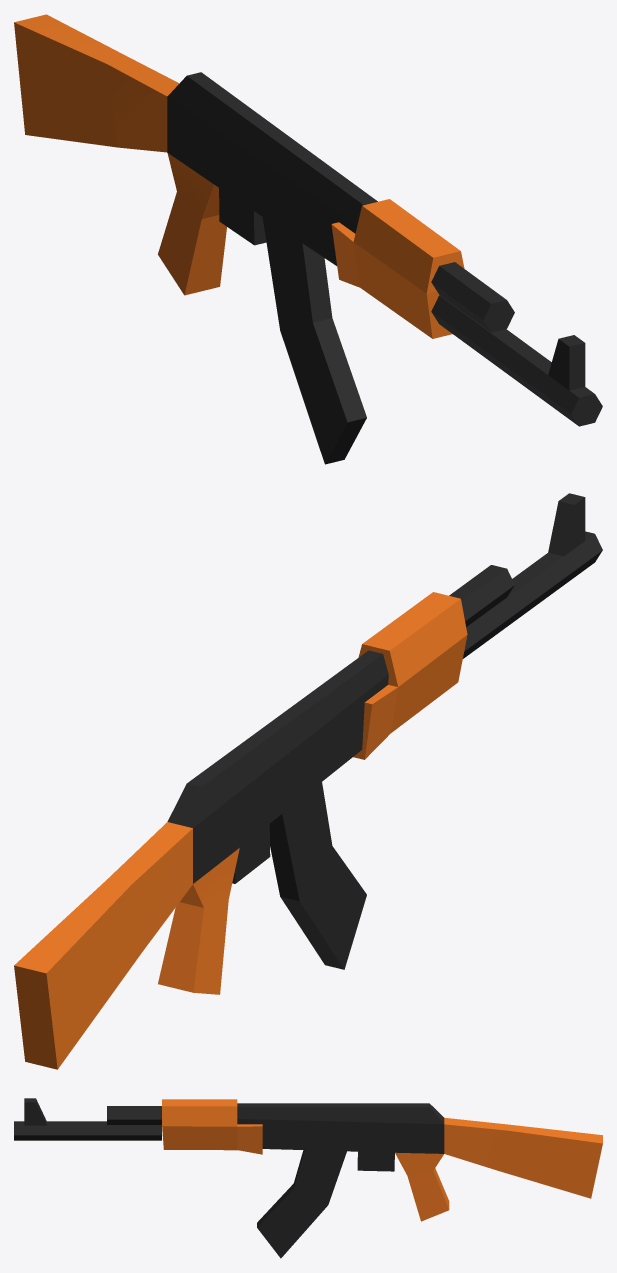
Rendered from weapons_ak-47.fbx.
3 views of the same model, one above another, from view 1: azimuth 30°, elevation 25°; view 2: azimuth 150°, elevation 25°; view 3: azimuth 270°, elevation 25° (orthographic). The views are drawn at different scales.
Parts seen in each view (by area): view 1: weapons_ak_47; view 2: weapons_ak_47; view 3: weapons_ak_47.
Part boxes in pixels (<box>): weapons_ak_47: <box>14,14,602,464</box>; weapons_ak_47: <box>14,493,602,1069</box>; weapons_ak_47: <box>14,1098,602,1258</box>.
Size of the model in its own units: 9.26 by 58.43 by 200.
